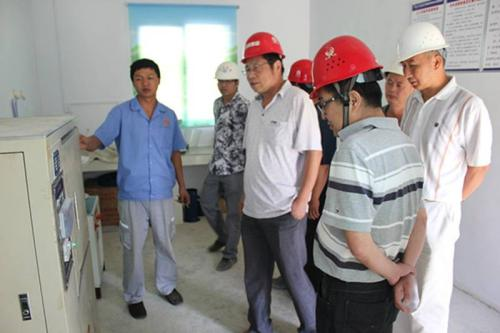boots: (160, 287, 183, 304), (128, 301, 147, 319), (216, 255, 237, 270), (208, 238, 226, 251)
hard-hat: (310, 35, 382, 98), (395, 22, 449, 63), (241, 32, 285, 63), (214, 60, 241, 80)
person: (308, 35, 427, 333), (392, 21, 493, 333), (79, 57, 191, 319), (239, 31, 322, 333), (199, 60, 250, 272)
